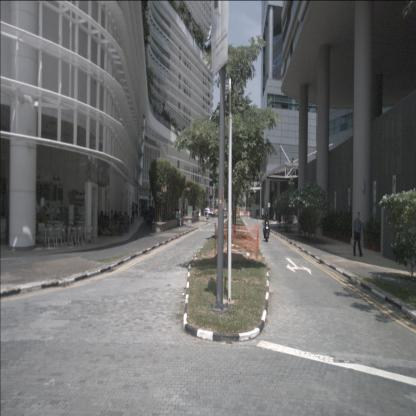human-pedestrian-adult: (351, 212, 363, 258), (100, 210, 110, 237), (118, 211, 127, 233), (102, 212, 110, 236), (113, 210, 119, 233), (123, 211, 129, 233), (130, 201, 135, 224), (176, 209, 180, 227), (136, 203, 140, 219)
movable_object-barrier: (239, 212, 244, 216), (236, 212, 240, 216), (243, 212, 248, 215), (248, 212, 250, 216)
vehicle-car: (203, 208, 213, 217), (221, 208, 227, 219)
vehicle-motorcycle: (263, 210, 270, 242)
